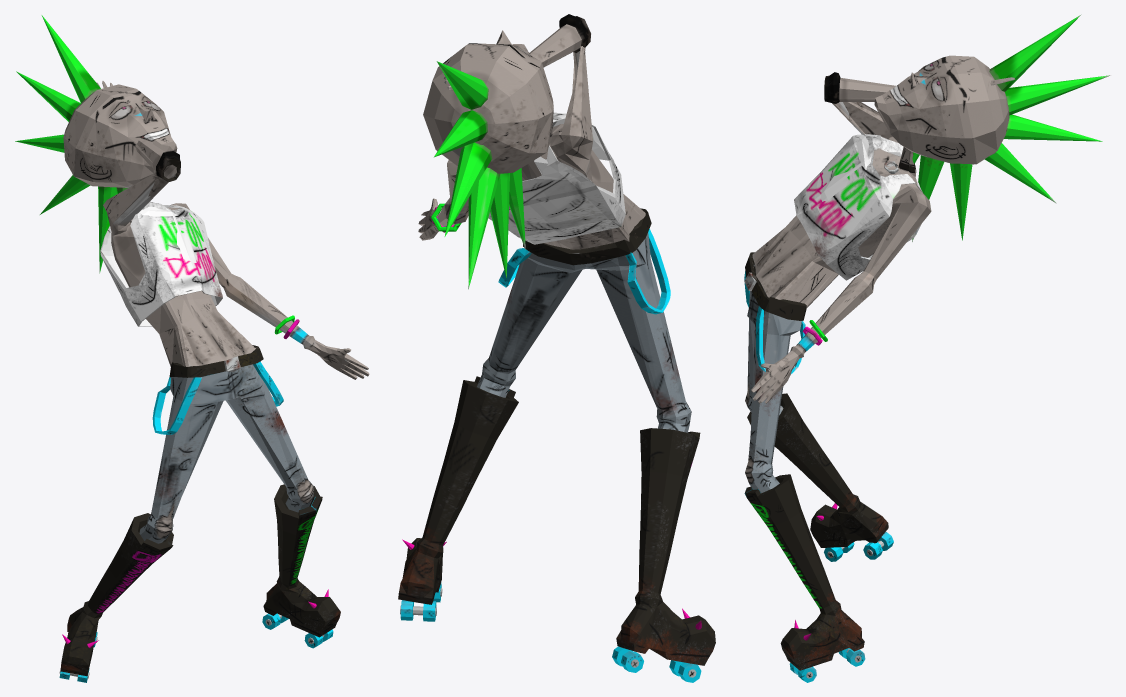
File: punkAnimation_000078.obj
The picture shows the model from 3 angles, left to right: view 1: azimuth 30°, elevation 25°; view 2: azimuth 150°, elevation 25°; view 3: azimuth 270°, elevation 25°; orthographic projection. The views are drawn at different scales.
Visible parts, largest first — view 1: Cube.004_Cube.003; view 2: Cube.004_Cube.003; view 3: Cube.004_Cube.003.
Part boxes in pixels (<box>): Cube.004_Cube.003: <box>15,15,369,682</box>; Cube.004_Cube.003: <box>398,14,715,682</box>; Cube.004_Cube.003: <box>744,14,1110,682</box>.
Size of the model in its own units: 3.05 by 6.04 by 3.41.
